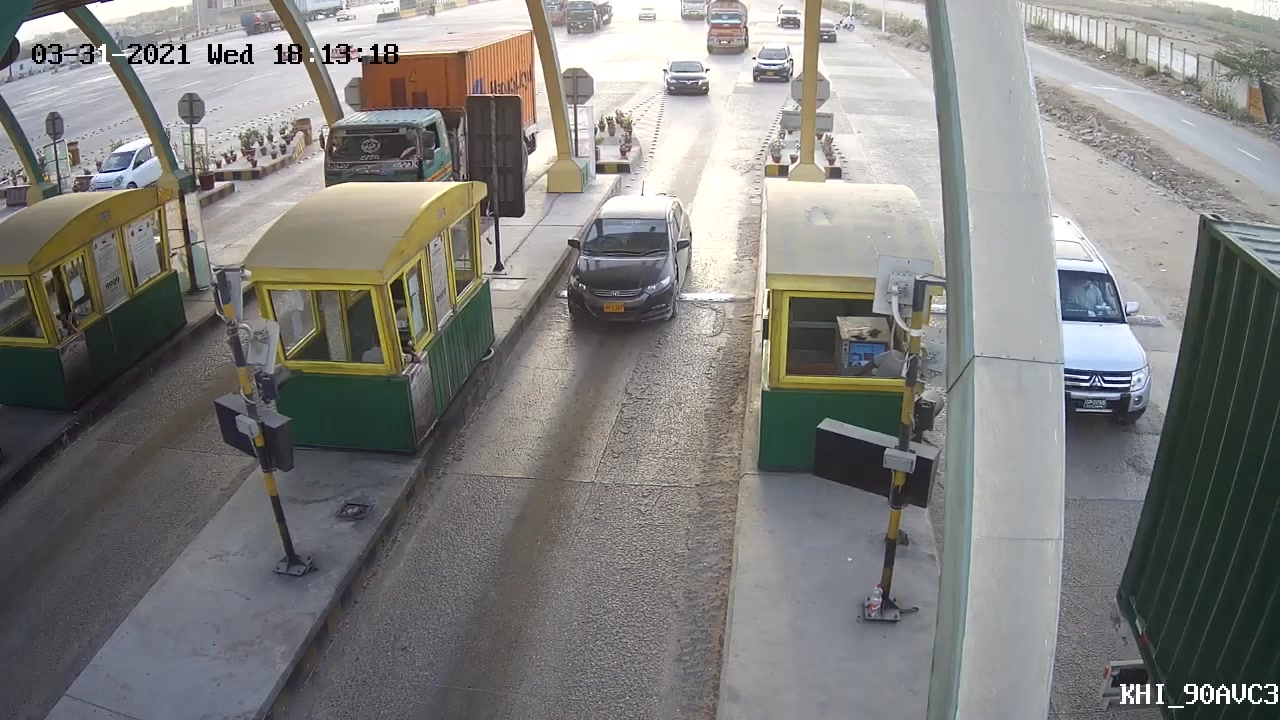F1: (545, 186, 699, 331)
